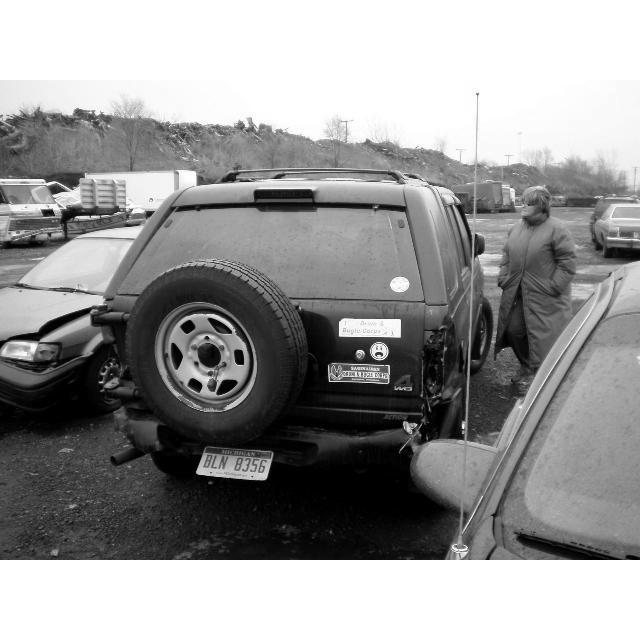boot-dent: (86, 310, 442, 439)
